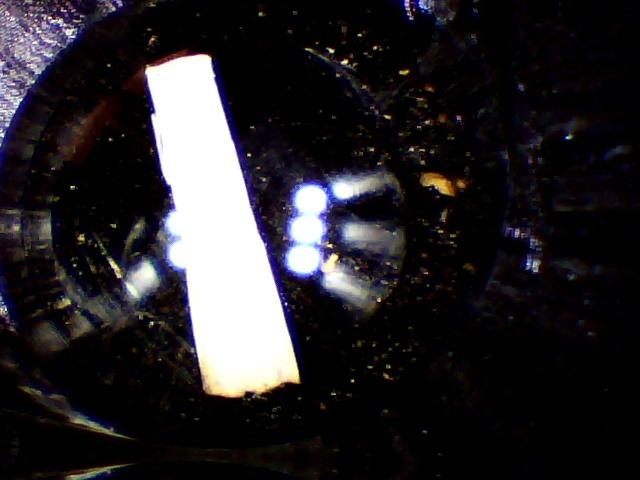megot: (111, 34, 345, 418)
